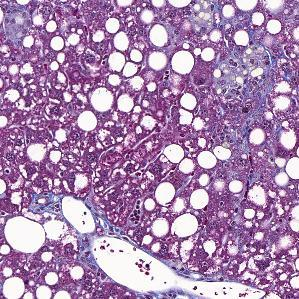fibrosis: (211, 53, 276, 119)
